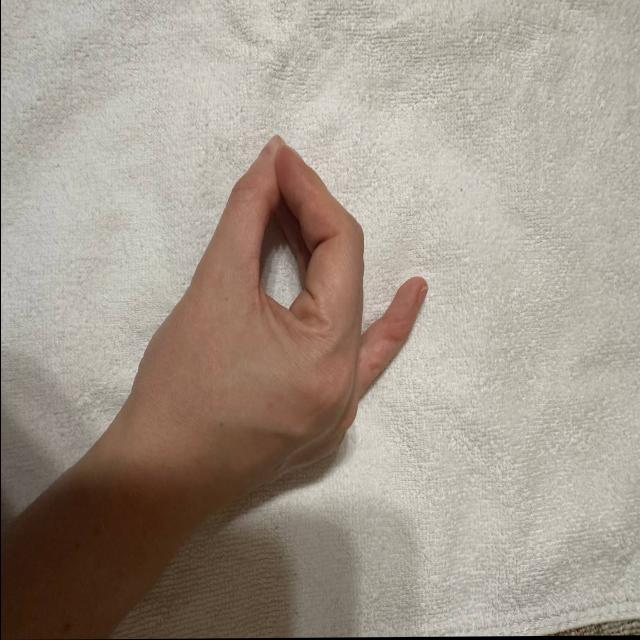iu: (129, 130, 429, 550)
